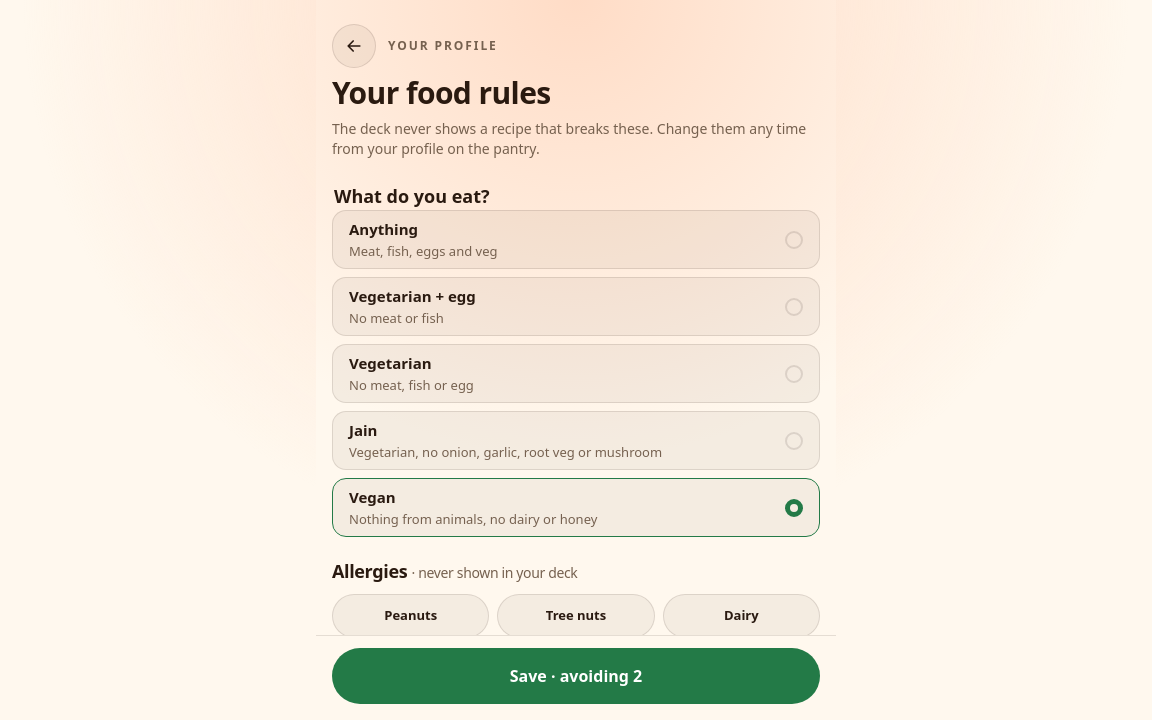
Test case: from the profile, the saved rules show and Back keeps them as they were
The width and height of the screenshot is (1152, 720).
Check: the radio button labelled "Vegan Nothing from animals, no dairy or honey" is checked, box [332,478,820,537]
Click the radio button labelled "Anything Meat, fish, eggs and veg". click: (384, 229)
box: [332,210,820,269]
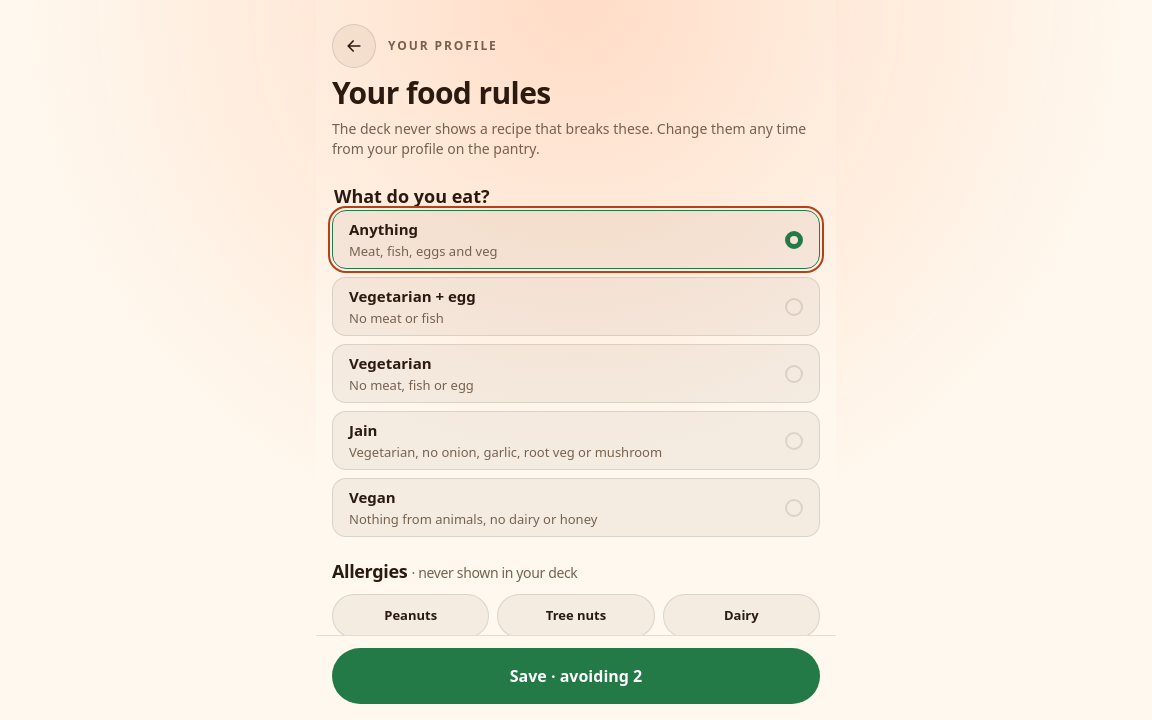
Click the button named "Back without saving". click: (354, 46)
box: [332,24,376,68]
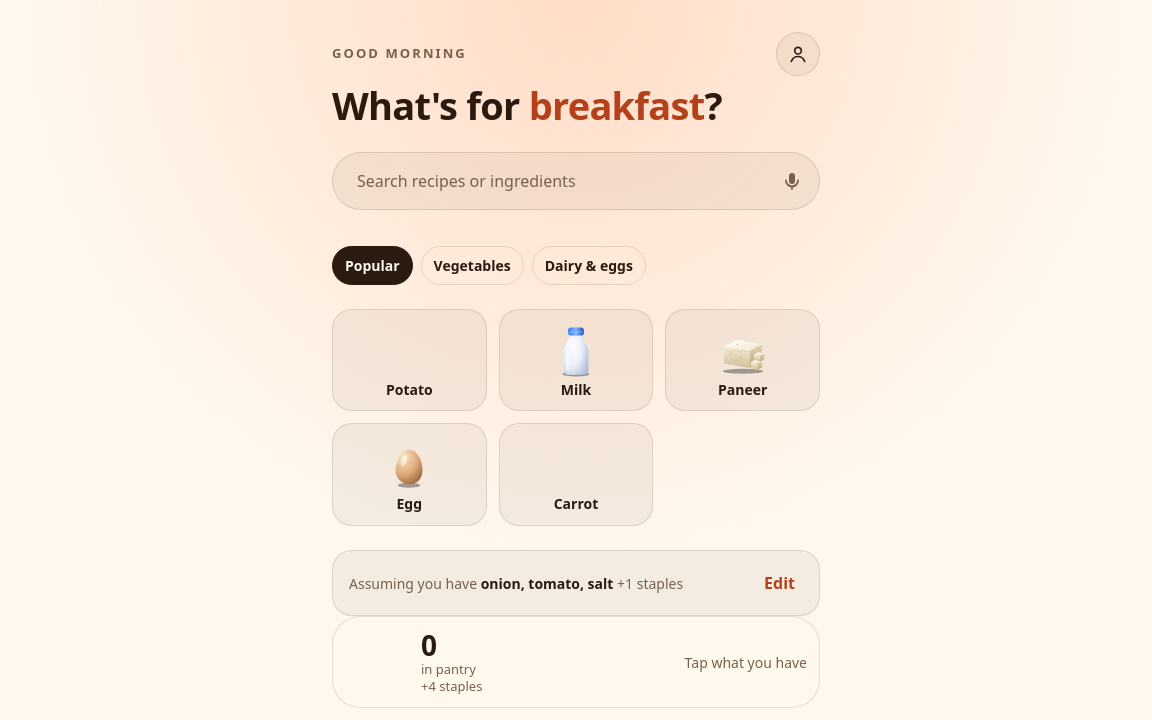
Check: the search field labelled "Search recipes or ingredients" is shown, box [332,152,820,210]
